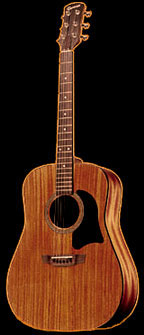guitar: (8, 2, 141, 333)
